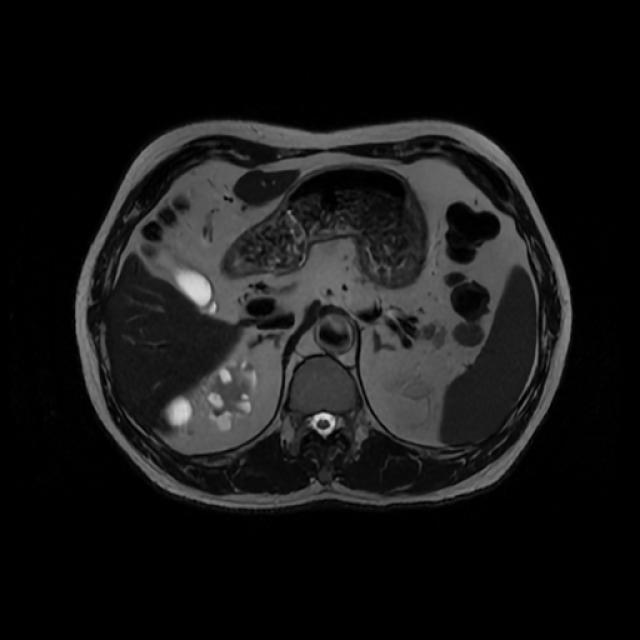sag: (207, 360, 257, 428), (166, 397, 191, 430)
sol: (403, 379, 429, 398)
